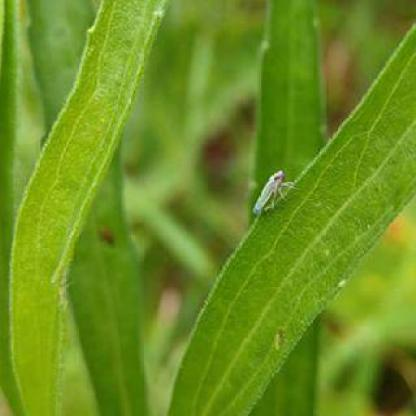green-leafhopper: (250, 168, 298, 218)
